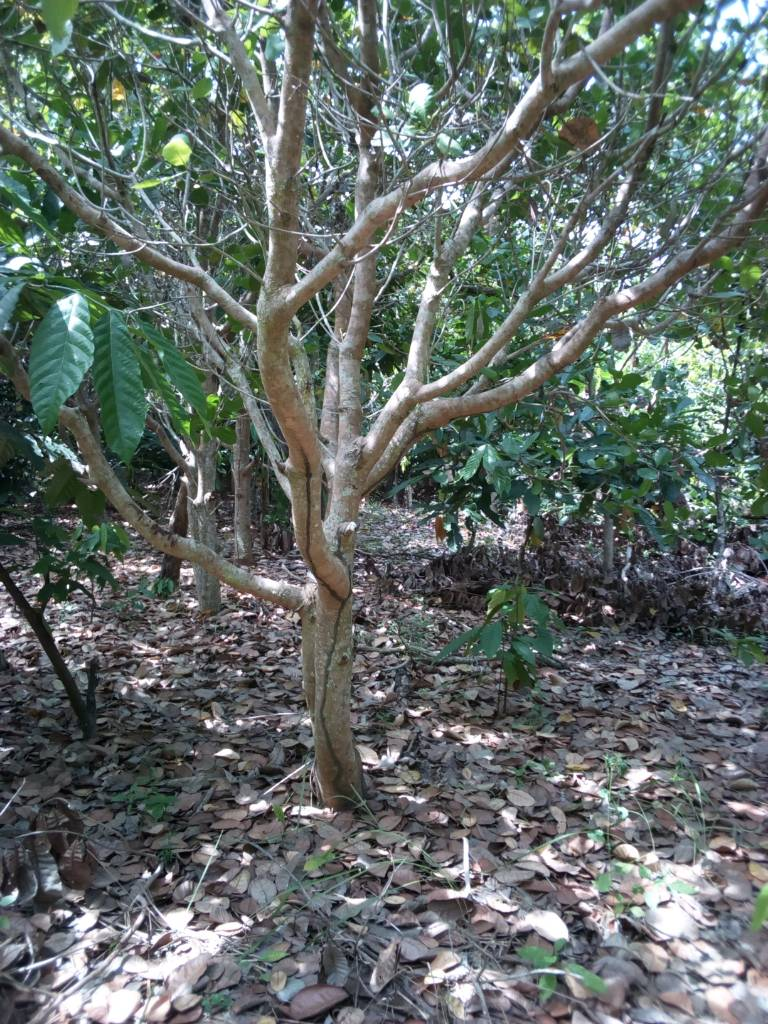Termites: (294, 442, 357, 616), (305, 636, 354, 792)
